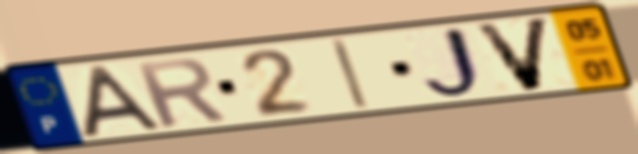2: (238, 48, 316, 120)
A: (78, 62, 168, 141)
I: (326, 35, 374, 112)
J: (418, 24, 492, 102)
R: (129, 55, 232, 131)
V: (469, 14, 555, 94)
